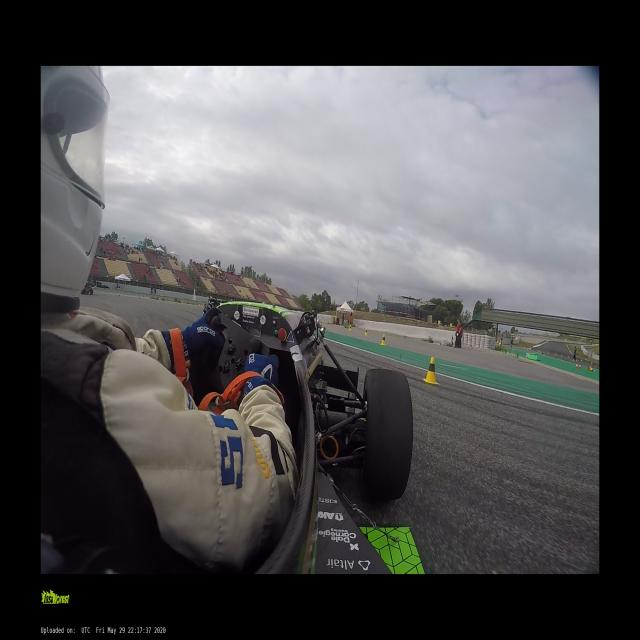yellow_cone: (423, 357, 438, 384), (380, 334, 386, 346), (365, 328, 368, 336), (349, 325, 352, 331)
